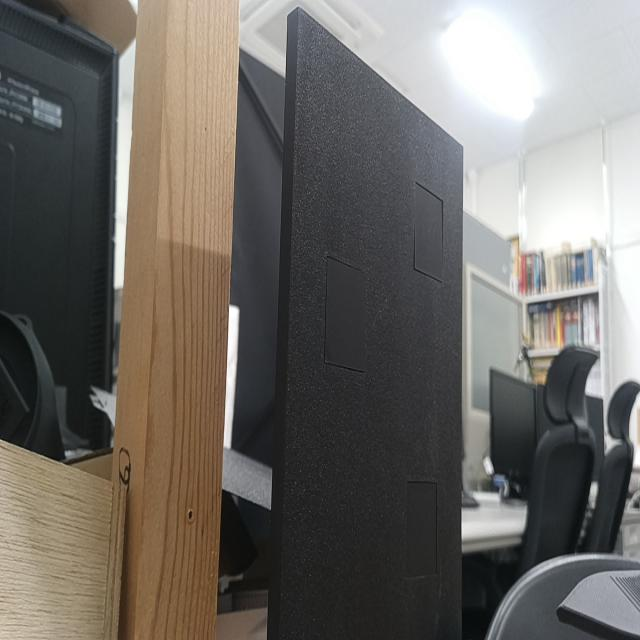Wall: (287, 9, 464, 639)
